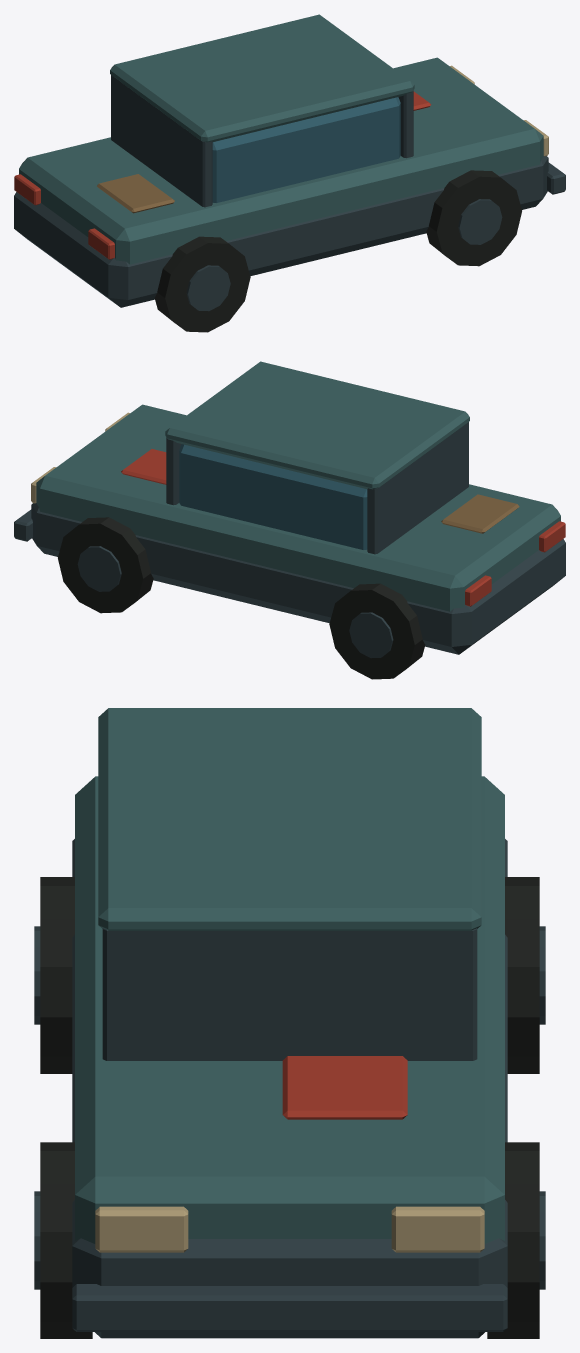
The model's file is abandoned_car.glb.
The picture shows the model from 3 angles, top to bottom: view 1: azimuth 30°, elevation 25°; view 2: azimuth 150°, elevation 25°; view 3: azimuth 270°, elevation 25°; orthographic projection. The views are drawn at different scales.
Parts seen in each view (by area): view 1: DD_abandoned_car; view 2: DD_abandoned_car; view 3: DD_abandoned_car.
Part boxes in pixels (x1,y1,x2,y2): DD_abandoned_car: (14, 14, 565, 332); DD_abandoned_car: (14, 361, 565, 679); DD_abandoned_car: (34, 708, 545, 1338).
Bounding box in the file's own units: 3.59 × 1.41 × 1.76.
